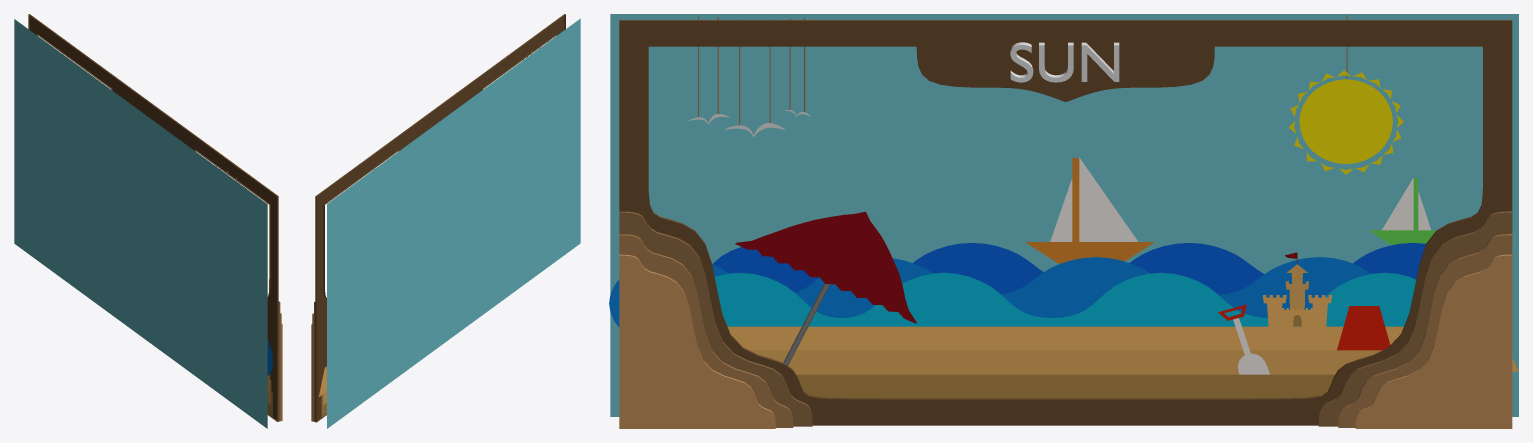
The model's file is Sun_scene.glb.
3 views of the same model, side by side, from view 1: azimuth 30°, elevation 25°; view 2: azimuth 150°, elevation 25°; view 3: azimuth 270°, elevation 25° (orthographic). The views are drawn at different scales.
Parts seen in each view (by area): view 1: Sky, WoodFront, WoodOrnement1.001; view 2: Sky, WoodFront; view 3: Sky, WoodFront, SeaFront, WoodOrnement3, WoodOrnement3.001, Beach3, Beach2, Beach1, SeaBack, SeaMiddle, ParasolTissue, Sun (+10 smaller).
Boxes of the visible parts, bbox=[...] form: Sky: bbox=[14, 19, 267, 428]; WoodFront: bbox=[28, 14, 278, 421]; WoodOrnement1.001: bbox=[278, 301, 280, 421]; Sky: bbox=[327, 18, 580, 428]; WoodFront: bbox=[315, 14, 565, 422]; Sky: bbox=[610, 14, 1518, 416]; WoodFront: bbox=[619, 20, 1512, 425]; SeaFront: bbox=[714, 272, 1416, 326]; WoodOrnement3: bbox=[1355, 254, 1512, 428]; WoodOrnement3.001: bbox=[619, 254, 775, 428]; Beach3: bbox=[728, 326, 1518, 371]; Beach2: bbox=[749, 350, 1381, 374]; Beach1: bbox=[796, 374, 1334, 398]; SeaBack: bbox=[712, 243, 1425, 294]; SeaMiddle: bbox=[609, 257, 1369, 327]; ParasolTissue: bbox=[735, 211, 916, 323]; Sun: bbox=[1289, 70, 1403, 174].
Size of the model in its own units: 0.1236 by 1.51 by 3.06.
